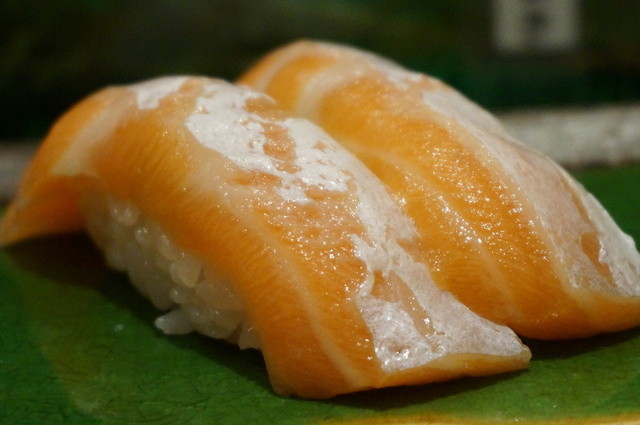salmon: (20, 46, 640, 383)
